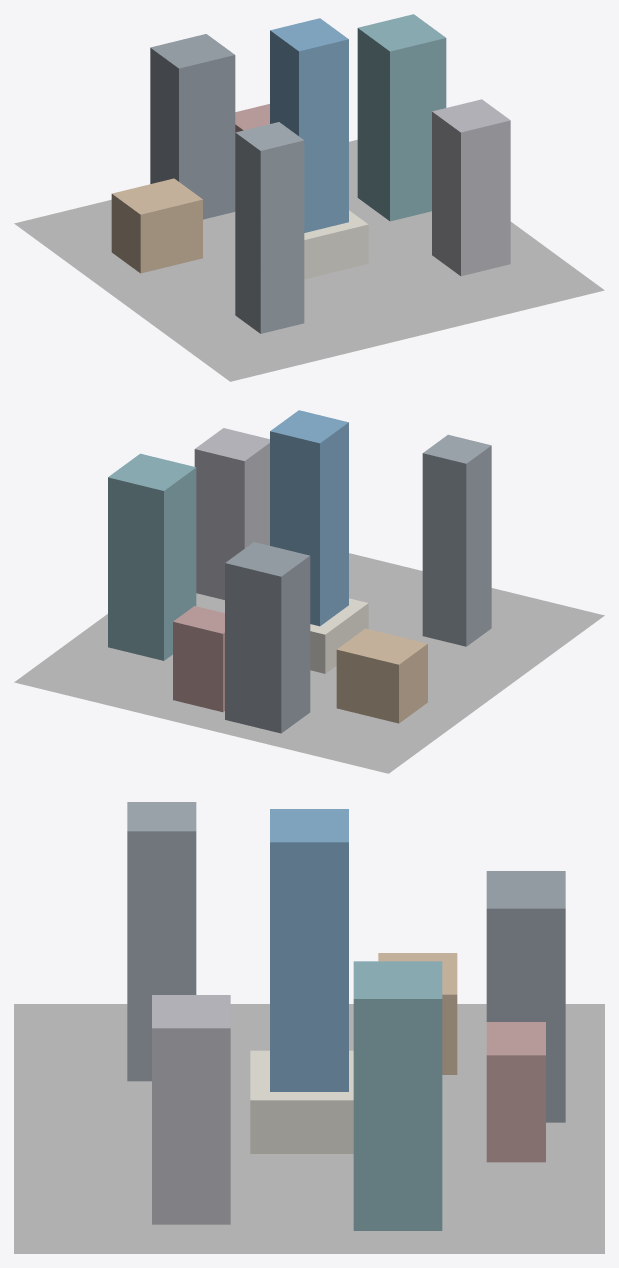
Rendered from causeway-bay.glb.
The picture shows the model from 3 angles, top to bottom: view 1: azimuth 30°, elevation 25°; view 2: azimuth 150°, elevation 25°; view 3: azimuth 270°, elevation 25°; orthographic projection. The views are drawn at different scales.
Parts seen in each view (by area): view 1: Ground, WindsorHouse, SunningPlaza, LeeGardens, WorldTradeCentre, TimesSquare_Tower, SOGO, TimesSquare_Podium, LeeTheatrePlaza; view 2: Ground, WindsorHouse, LeeGardens, SunningPlaza, TimesSquare_Tower, WorldTradeCentre, SOGO, LeeTheatrePlaza, TimesSquare_Podium; view 3: Ground, WindsorHouse, TimesSquare_Tower, WorldTradeCentre, SunningPlaza, LeeGardens, LeeTheatrePlaza, TimesSquare_Podium, SOGO.
Boxes of the visible parts, x1,y1,x2,y2 form: Ground: (14,139,604,381); WindsorHouse: (357,14,446,221); SunningPlaza: (235,122,304,333); LeeGardens: (150,34,235,219); WorldTradeCentre: (432,99,510,276); TimesSquare_Tower: (270,18,348,232); SOGO: (111,178,202,273); TimesSquare_Podium: (304,210,368,279); LeeTheatrePlaza: (235,104,269,132); Ground: (14,553,604,773); WindsorHouse: (108,453,196,660); LeeGardens: (225,542,310,733); SunningPlaza: (422,434,491,646); TimesSquare_Tower: (270,410,348,626); WorldTradeCentre: (194,428,269,599); SOGO: (336,628,427,723); LeeTheatrePlaza: (173,606,224,712); TimesSquare_Podium: (310,598,368,673); Ground: (14,1004,604,1253); WindsorHouse: (353,961,442,1230); TimesSquare_Tower: (270,809,348,1091); WorldTradeCentre: (152,995,230,1224); SunningPlaza: (127,802,196,1081); LeeGardens: (486,871,565,1122); LeeTheatrePlaza: (486,1022,545,1162); TimesSquare_Podium: (250,1050,353,1153); SOGO: (378,953,457,1074).
Size of the model in its own units: 300 by 170 by 300.
